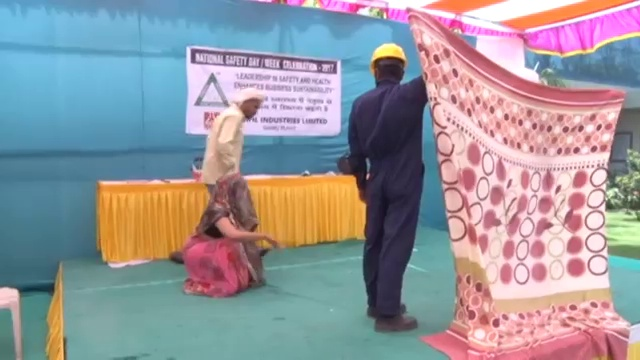helmet: (370, 42, 408, 74)
helmet_off: (217, 167, 241, 202), (237, 90, 263, 119)
helmet_on: (369, 41, 408, 87)
person: (347, 42, 429, 332), (184, 167, 275, 295), (201, 88, 262, 196)
